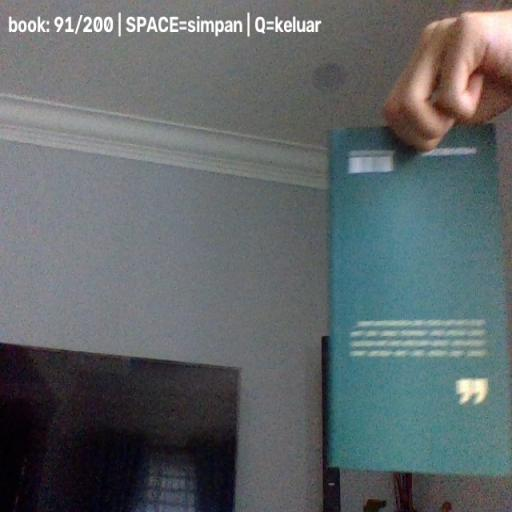Book: (326, 122, 510, 476)
